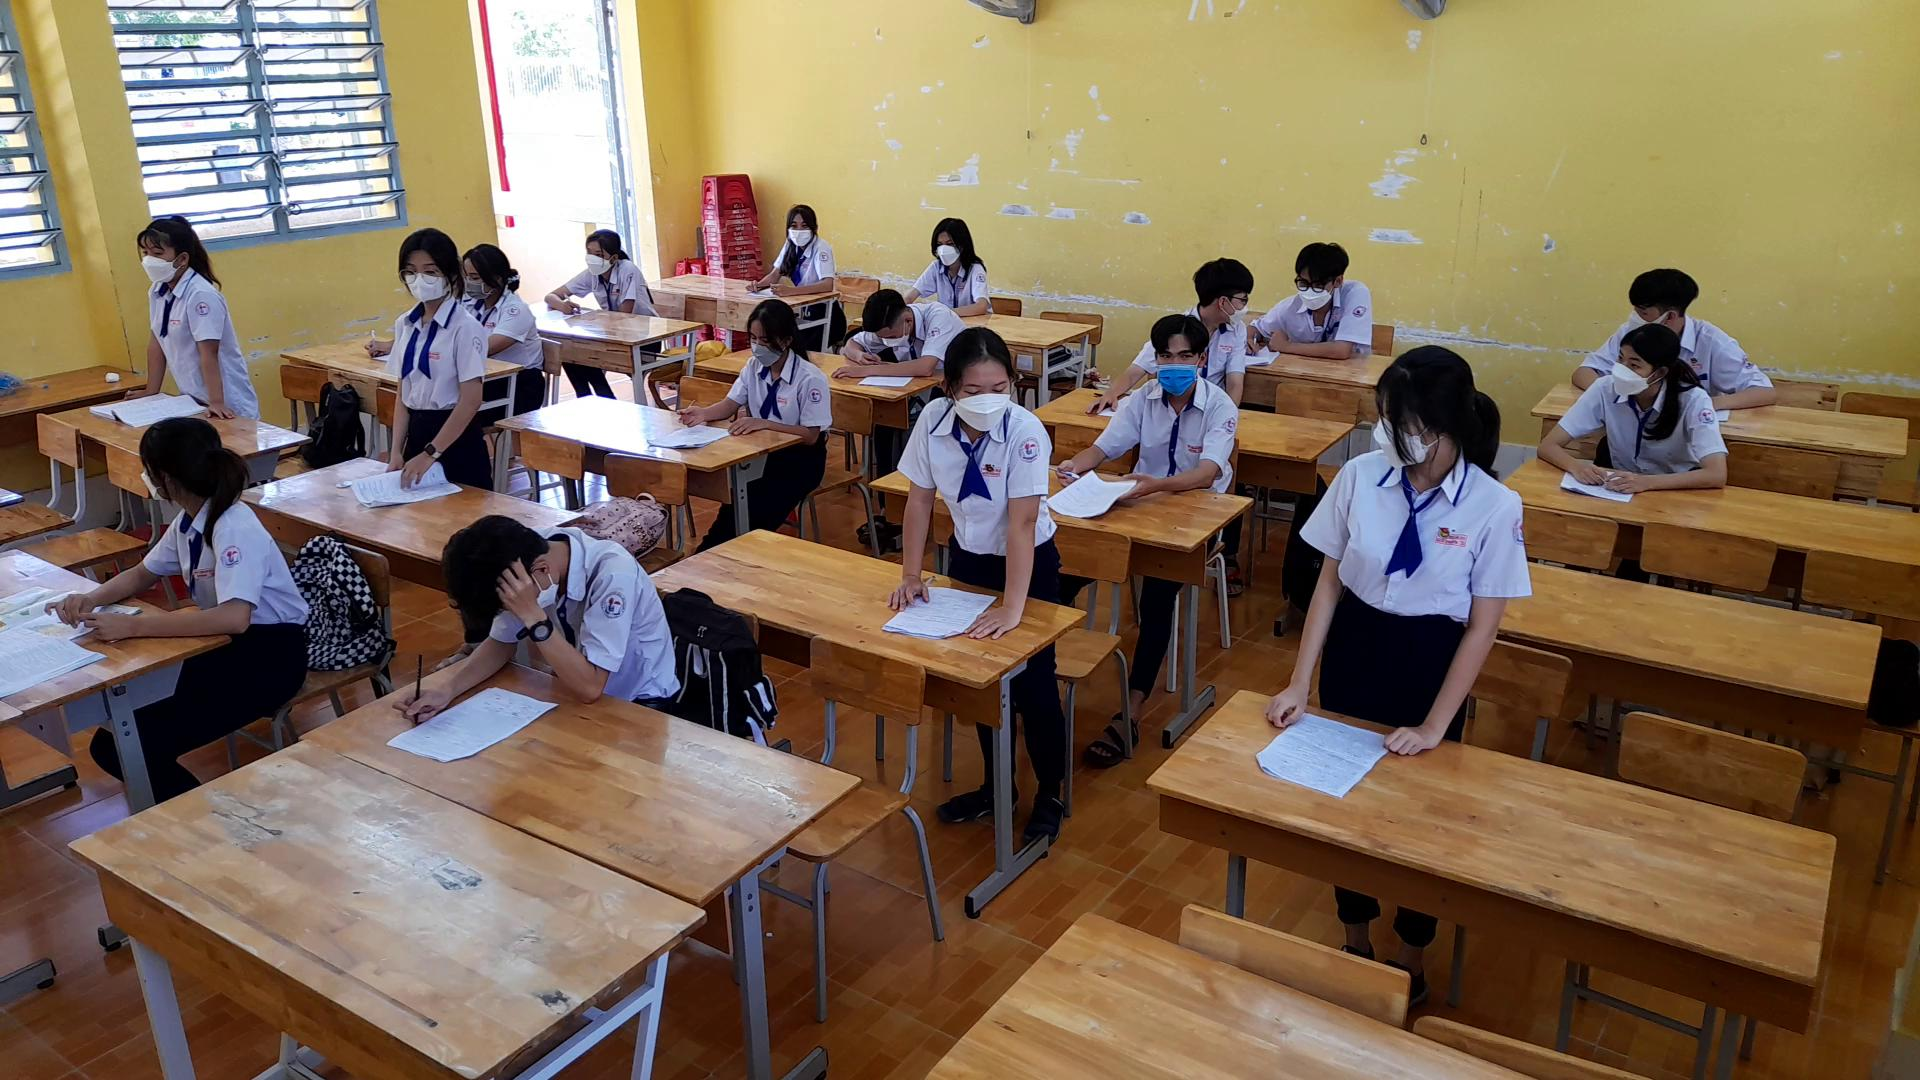Hand Under Table: (612, 260, 647, 323)
Look Around: (116, 398, 241, 529), (1171, 239, 1255, 330)
Normal: (1048, 306, 1236, 508), (1536, 310, 1727, 496), (670, 287, 839, 451), (1254, 235, 1379, 367), (741, 190, 843, 295), (913, 204, 997, 318)
Stand Up: (1257, 340, 1528, 762), (876, 324, 1058, 641), (371, 222, 495, 492), (123, 208, 266, 425)
Wave: (496, 558, 646, 703)
